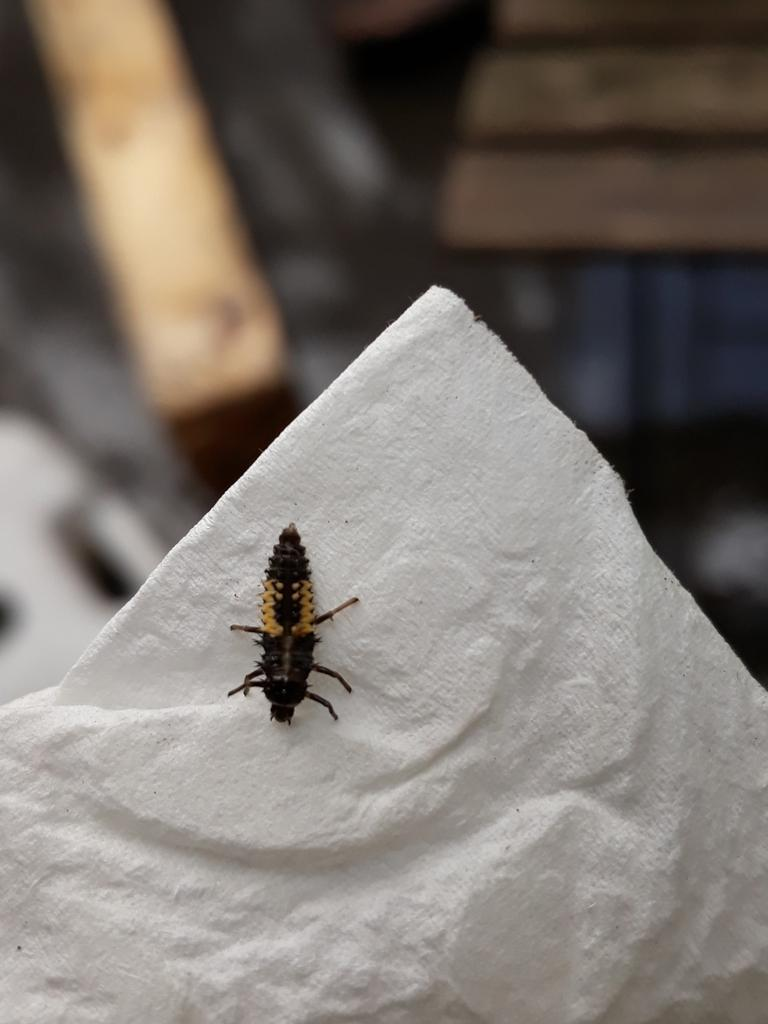ladybug: (226, 519, 366, 731)
